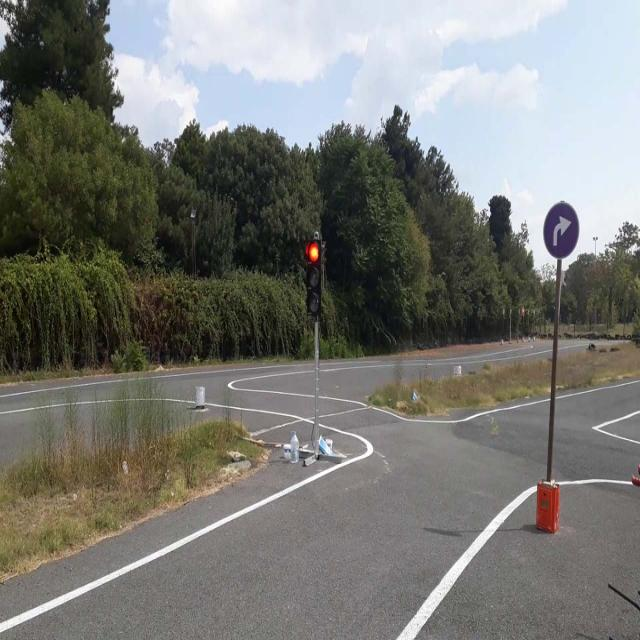kirmizi: (306, 241, 320, 315)
sag: (544, 203, 578, 257)
